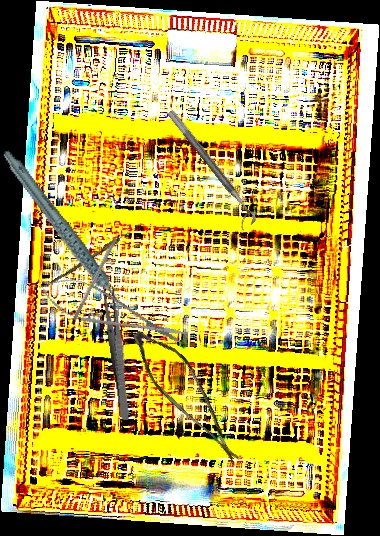Dressing Forceps: (101, 285, 134, 421)
Fixation Ring: (157, 109, 260, 231)
Handpiece: (1, 133, 125, 334)
Hook Surgical: (71, 217, 129, 322)
Micro Scissor: (112, 322, 268, 468), (33, 267, 193, 358)
Surgical Spoon: (50, 220, 144, 287)
